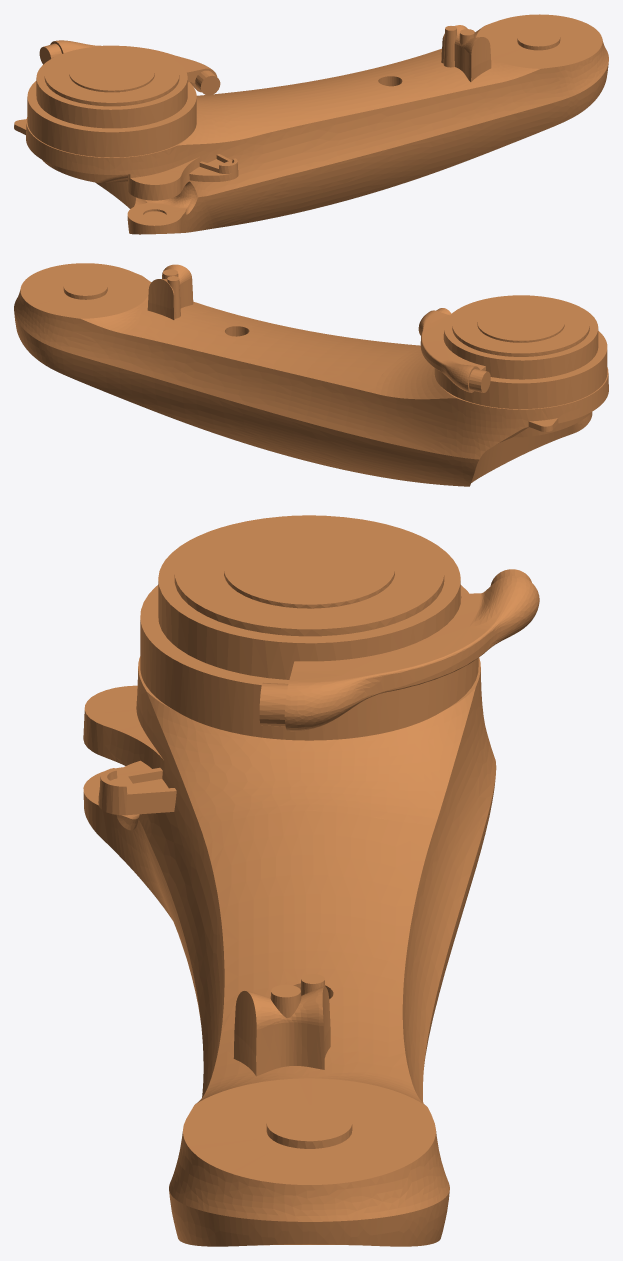
3 renders of one model, top to bottom at view 1: azimuth 30°, elevation 25°; view 2: azimuth 150°, elevation 25°; view 3: azimuth 270°, elevation 25°, orthographic. The views are drawn at different scales.
Parts seen in each view (by area): view 1: /Link_2/Link_2-mesh/0; view 2: /Link_2/Link_2-mesh/0; view 3: /Link_2/Link_2-mesh/0.
Part boxes in pixels (box(x1,y1,x2,y2)): /Link_2/Link_2-mesh/0: box(14, 14, 608, 234); /Link_2/Link_2-mesh/0: box(14, 263, 608, 486); /Link_2/Link_2-mesh/0: box(83, 515, 539, 1246).
Size of the model in its own units: 1.51 by 0.4384 by 0.5326.
